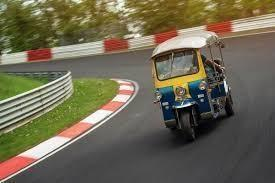keke: (146, 28, 234, 138)
